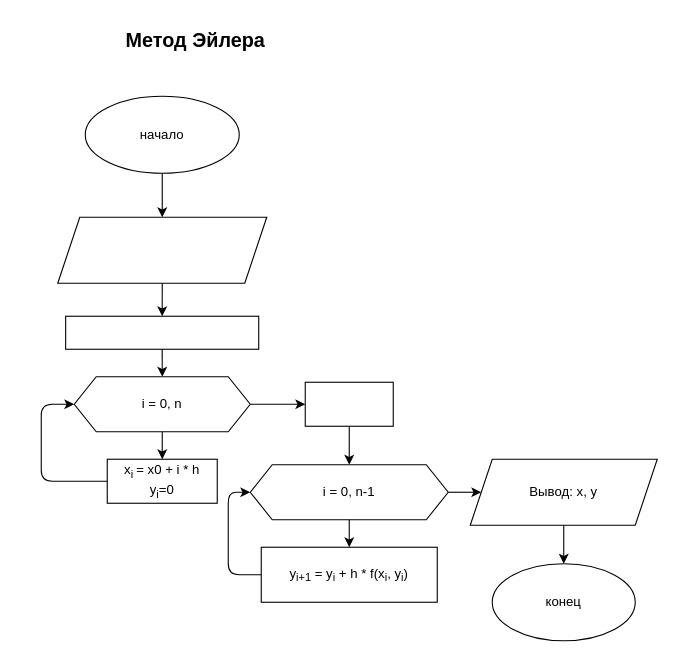
Some shapes in this 677 by 660 pixel diagram are drawn without their labels. Here are the shapes that lost their labels. From the top down, the centre of each, then its label:
the point at 162,249: f, x0, y0, xn, h
the point at 162,332: n = round((xn - x0) / h)
the point at 348,403: y 0 =y0
